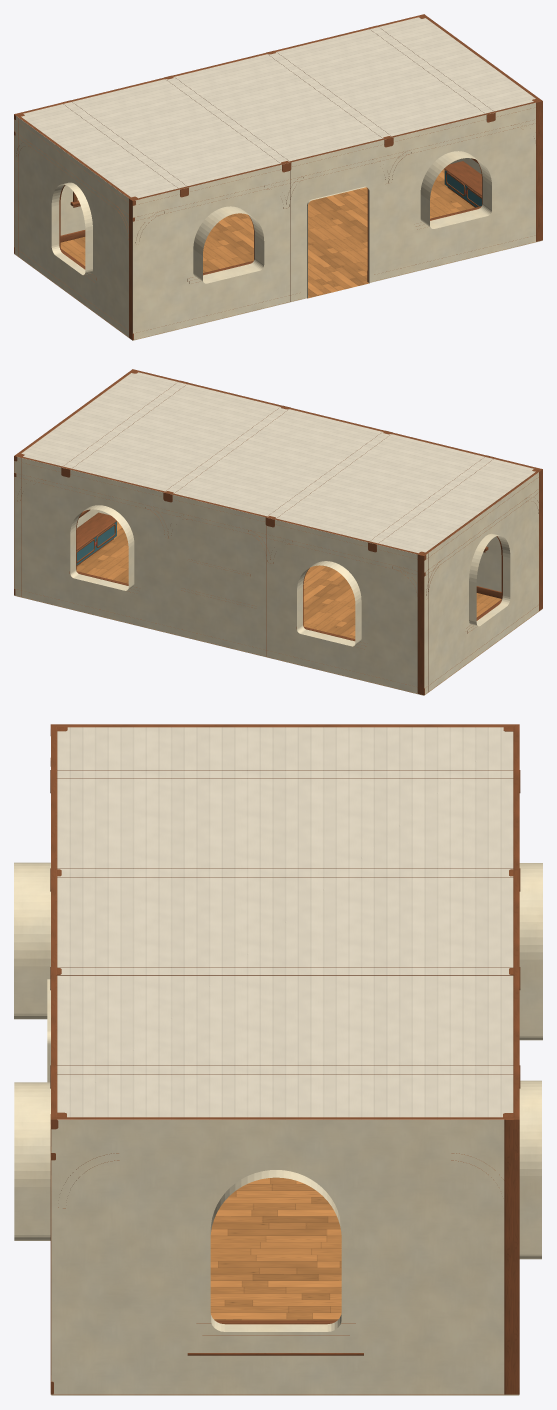
Rendered from house_f_lining.glb.
The picture shows the model from 3 angles, top to bottom: view 1: azimuth 30°, elevation 25°; view 2: azimuth 150°, elevation 25°; view 3: azimuth 270°, elevation 25°; orthographic projection. The views are drawn at different scales.
Parts seen in each view (by area): view 1: Architecture_Walls, Architecture_Ceiling, Architecture_Floor, Architecture_Timber, Architecture_WindowSeat, Architecture_Beams; view 2: Architecture_Walls, Architecture_Ceiling, Architecture_Timber, Architecture_Floor, Architecture_WindowSeat, Architecture_Beams; view 3: Architecture_Ceiling, Architecture_Walls, Architecture_Floor, Architecture_Timber, Architecture_Beams.
Part boxes in pixels (x1=…): Architecture_Walls: x1=14, y1=103, x2=542, y2=340; Architecture_Ceiling: x1=18, y1=17, x2=535, y2=198; Architecture_Floor: x1=18, y1=169, x2=474, y2=331; Architecture_Timber: x1=14, y1=14, x2=542, y2=340; Architecture_WindowSeat: x1=444, y1=161, x2=481, y2=207; Architecture_Beams: x1=63, y1=26, x2=495, y2=197; Architecture_Walls: x1=14, y1=457, x2=542, y2=695; Architecture_Ceiling: x1=21, y1=372, x2=538, y2=553; Architecture_Timber: x1=14, y1=369, x2=542, y2=695; Architecture_Floor: x1=21, y1=521, x2=538, y2=691; Architecture_WindowSeat: x1=76, y1=512, x2=116, y2=565; Architecture_Beams: x1=61, y1=381, x2=493, y2=552; Architecture_Ceiling: x1=57, y1=727, x2=513, y2=1119; Architecture_Walls: x1=14, y1=862, x2=542, y2=1395; Architecture_Floor: x1=210, y1=1177, x2=341, y2=1320; Architecture_Timber: x1=50, y1=724, x2=519, y2=1394; Architecture_Beams: x1=50, y1=770, x2=520, y2=1088.
Size of what is drawn, in the model's own units: 9.57 by 3.01 by 5.22.
Materials: 6 (6 with a texture image).
